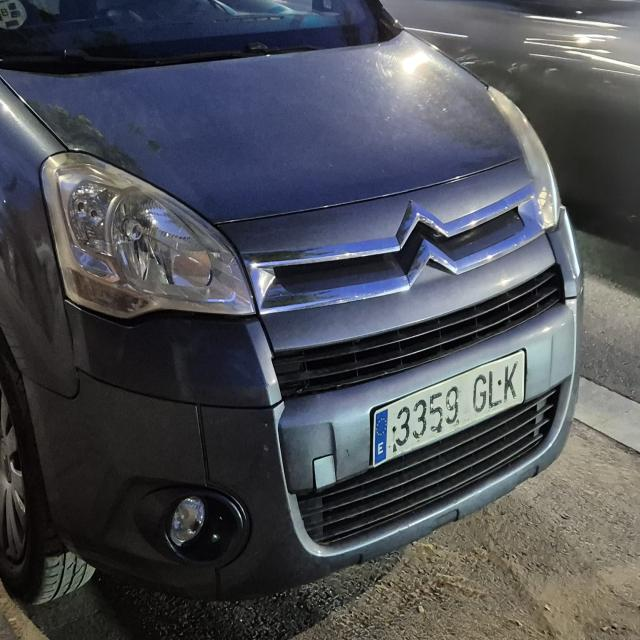license_plate-34Td: (370, 349, 525, 467)
